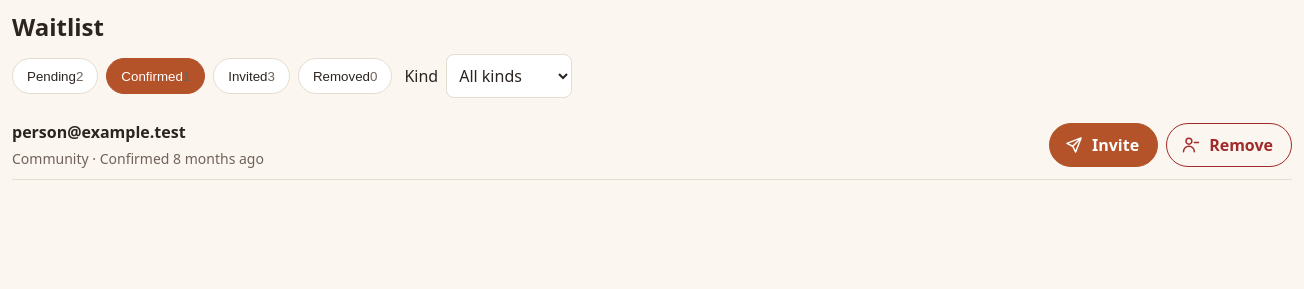
it: WaitlistScreen › keeps the resend notice after the invited row leaves the tab
The width and height of the screenshot is (1304, 289).
Click the button with aria-label "Invite person@example.test": coordinates (1104, 144) [1049, 122, 1158, 166]
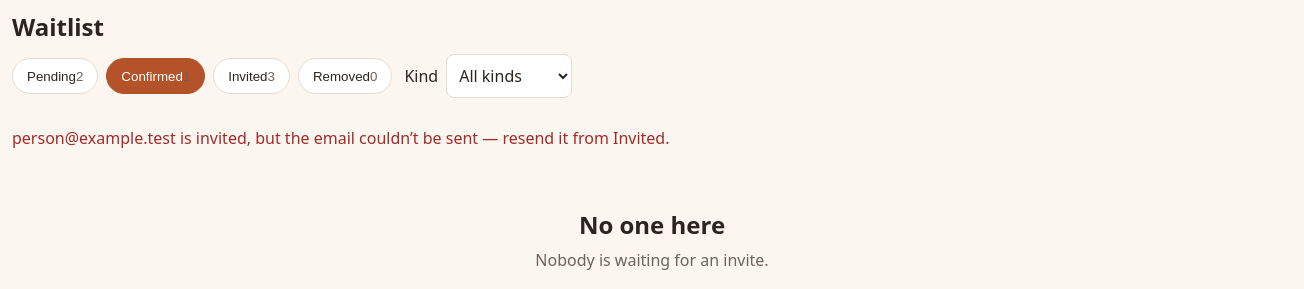
Expected: the message shows "person@example.test is invited, but the email couldn’t be sent", [12, 127, 670, 149]
Expected: the text "Nobody is waiting for an invite." is shown, [535, 248, 769, 272]
